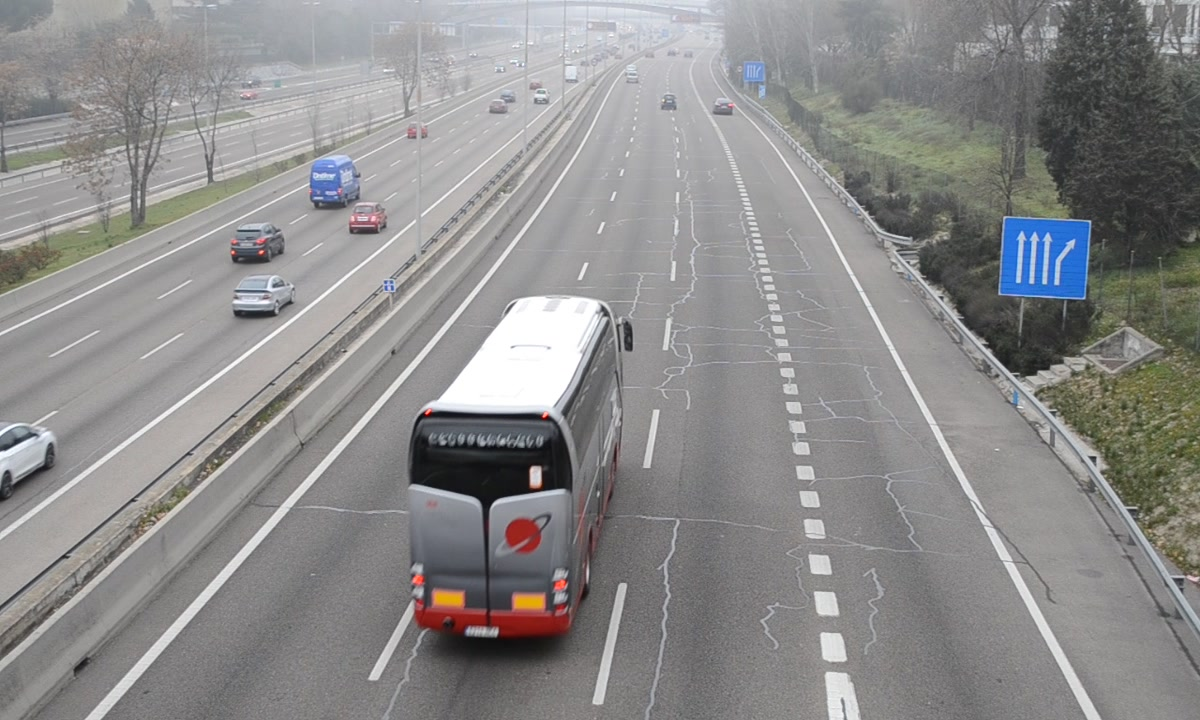bus: (405, 296, 620, 639)
car: (659, 92, 679, 113), (713, 98, 734, 117)
